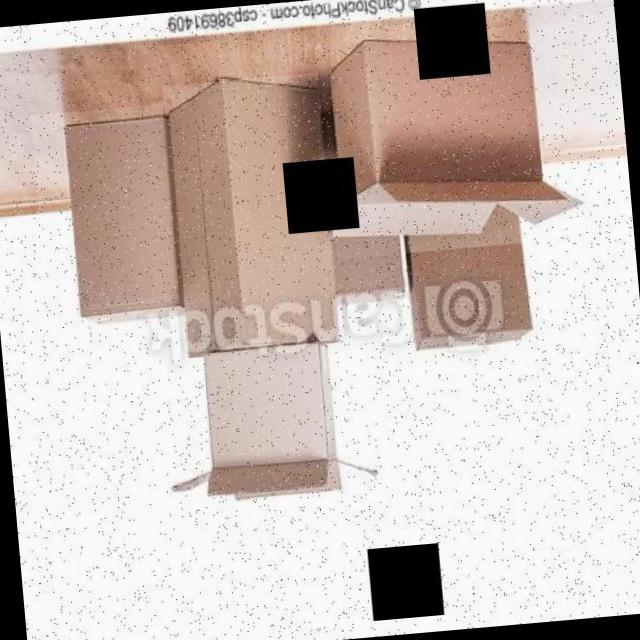box: (314, 0, 583, 259), (162, 70, 341, 358), (30, 103, 182, 342), (187, 334, 368, 514), (400, 187, 554, 370)
